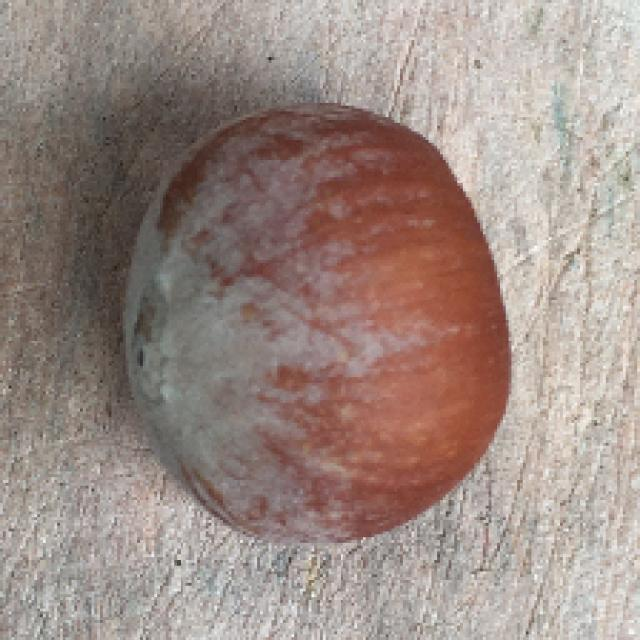QualityHazelnut: (120, 105, 517, 544)
